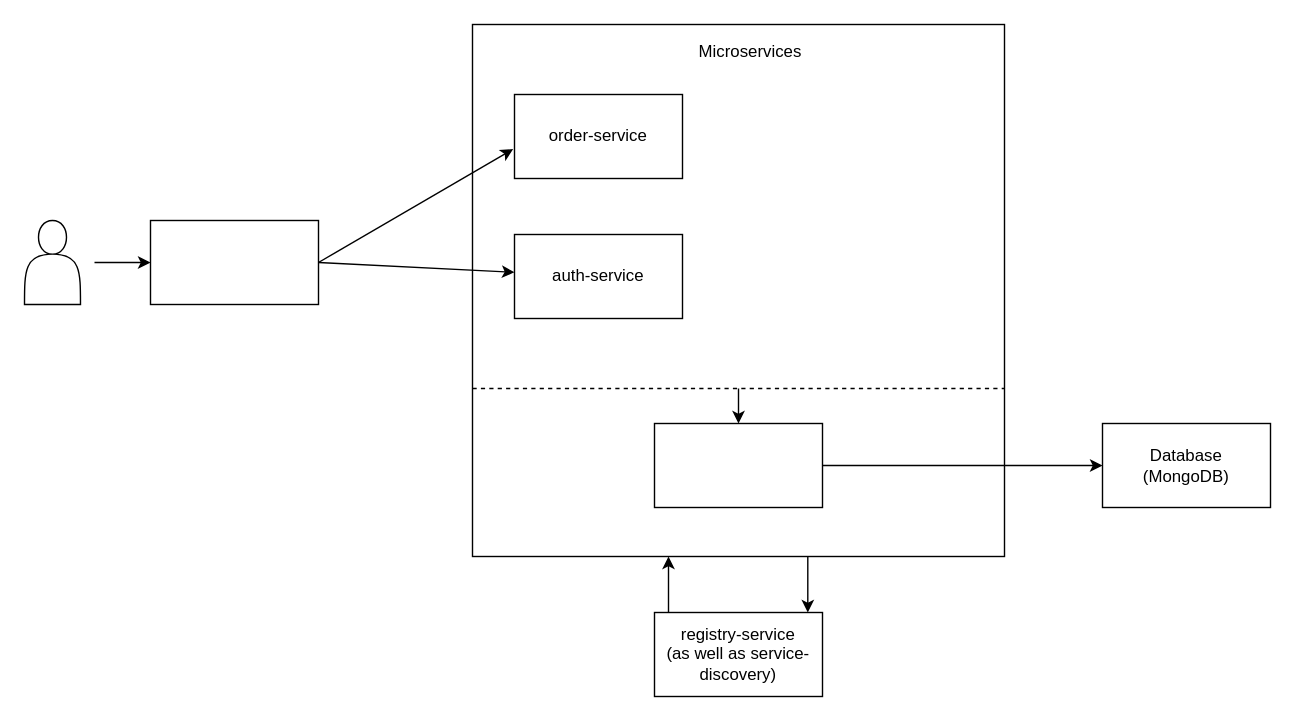
This 1295x721 diagram has some shape labels left out. Here are the shapes that lost their labels. From the top down, the box of each, then its label:
(149, 219, 318, 304): API Gateway
(653, 422, 822, 507): storage-service
